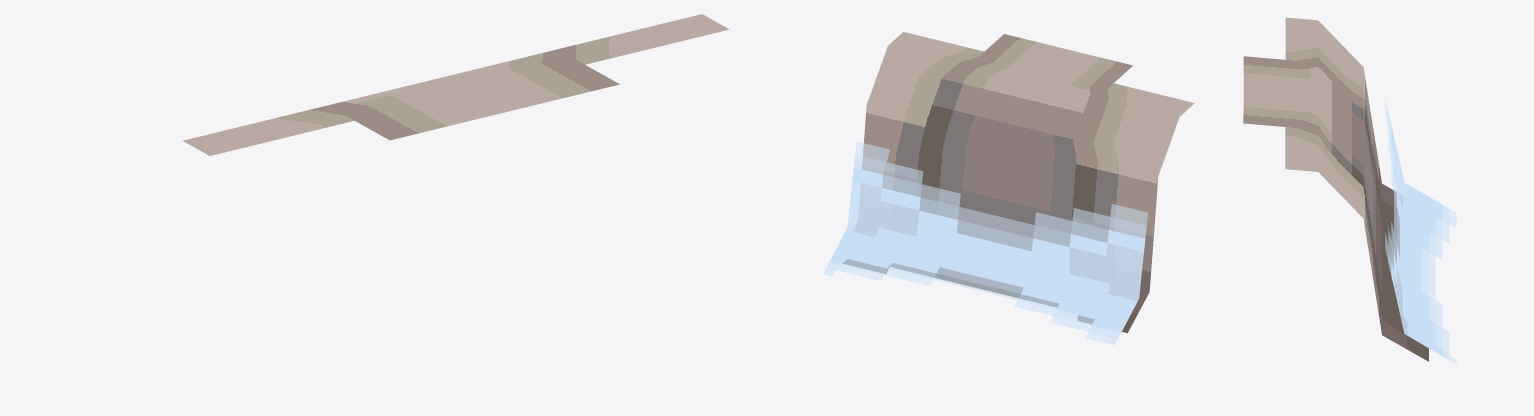
3 renders of one model, left to right at view 1: azimuth 30°, elevation 25°; view 2: azimuth 150°, elevation 25°; view 3: azimuth 270°, elevation 25°, orthographic. The views are drawn at different scales.
Bounding box in the file's own units: 1 × 0.7266 × 0.7708.
Materials: 2 (2 with a texture image).
